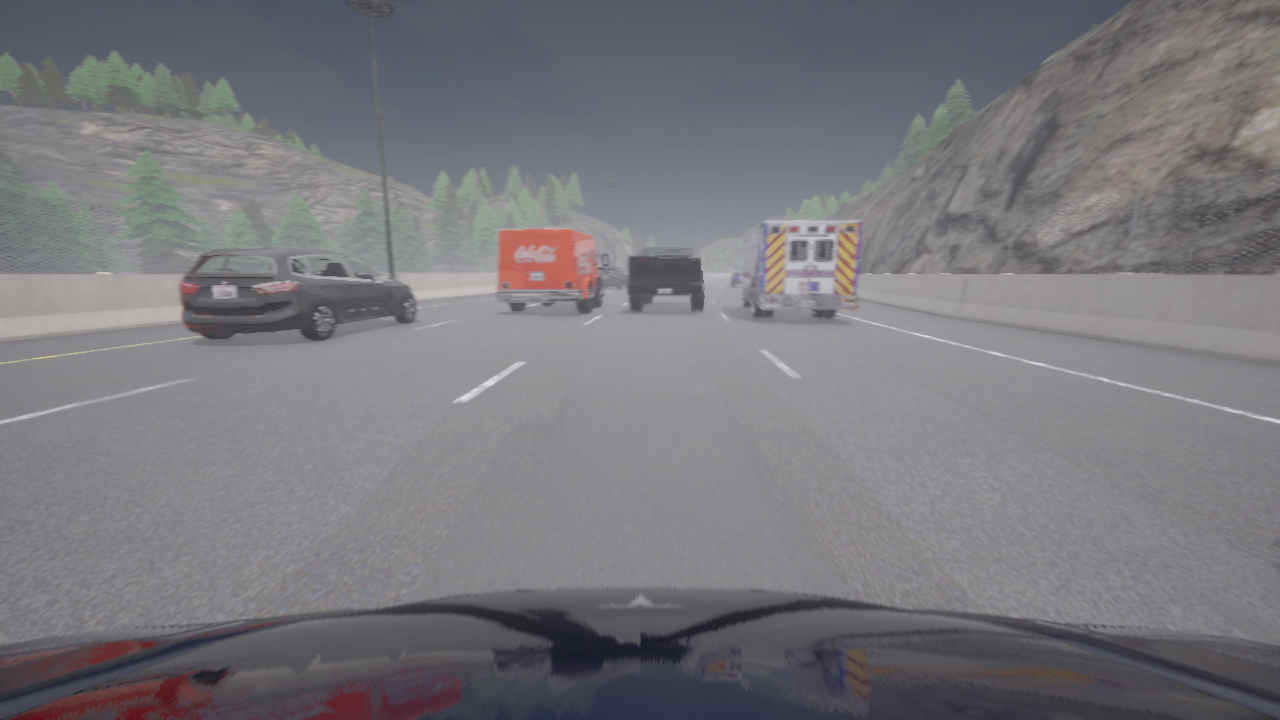cyclist: (0, 588, 1279, 719), (179, 248, 417, 341), (733, 220, 861, 318), (496, 228, 607, 312), (627, 248, 704, 311), (598, 268, 628, 288), (731, 270, 741, 287), (703, 275, 704, 276)
